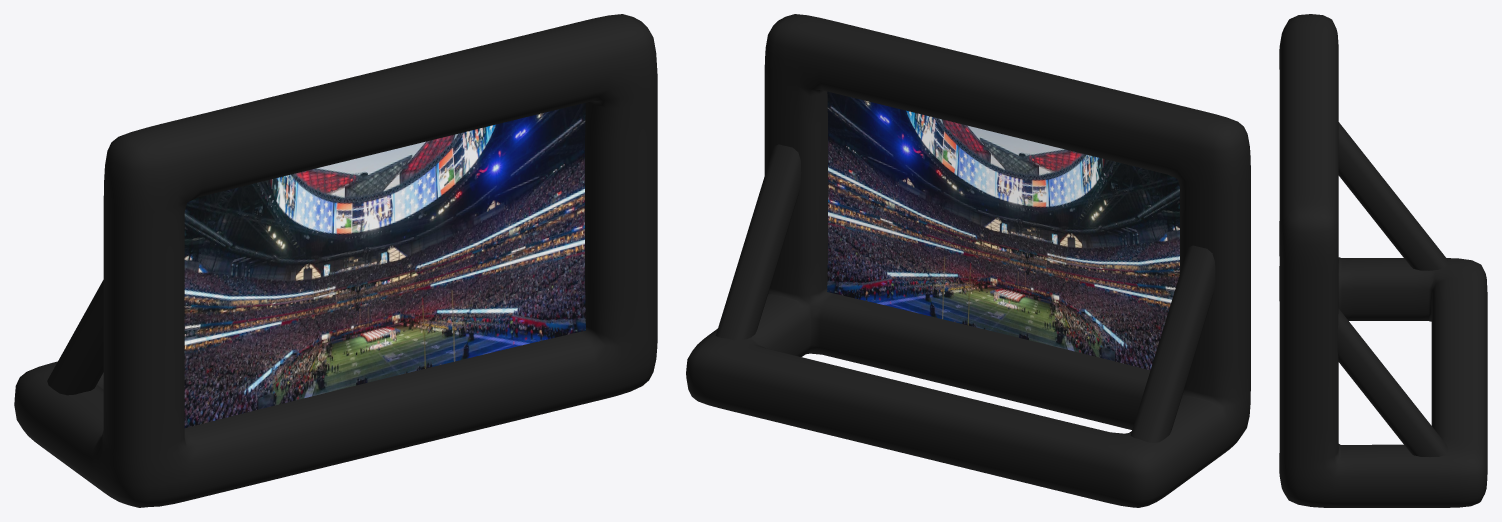
3 views of the same model, side by side, from view 1: azimuth 30°, elevation 25°; view 2: azimuth 150°, elevation 25°; view 3: azimuth 270°, elevation 25° (orthographic). The views are drawn at different scales.
Visible parts, largest first — view 1: Cube.951_Cube.000_0, Screen; view 2: Cube.951_Cube.000_0, Screen; view 3: Cube.951_Cube.000_0.
Part boxes in pixels (<box>): Cube.951_Cube.000_0: <box>14,14,657,507</box>; Screen: <box>184,103,585,427</box>; Cube.951_Cube.000_0: <box>686,14,1250,507</box>; Screen: <box>827,91,1179,370</box>; Cube.951_Cube.000_0: <box>1279,14,1487,507</box>.
Size of the model in its own units: 20.13 by 13.08 by 8.29.
2 materials, 1 textured.
